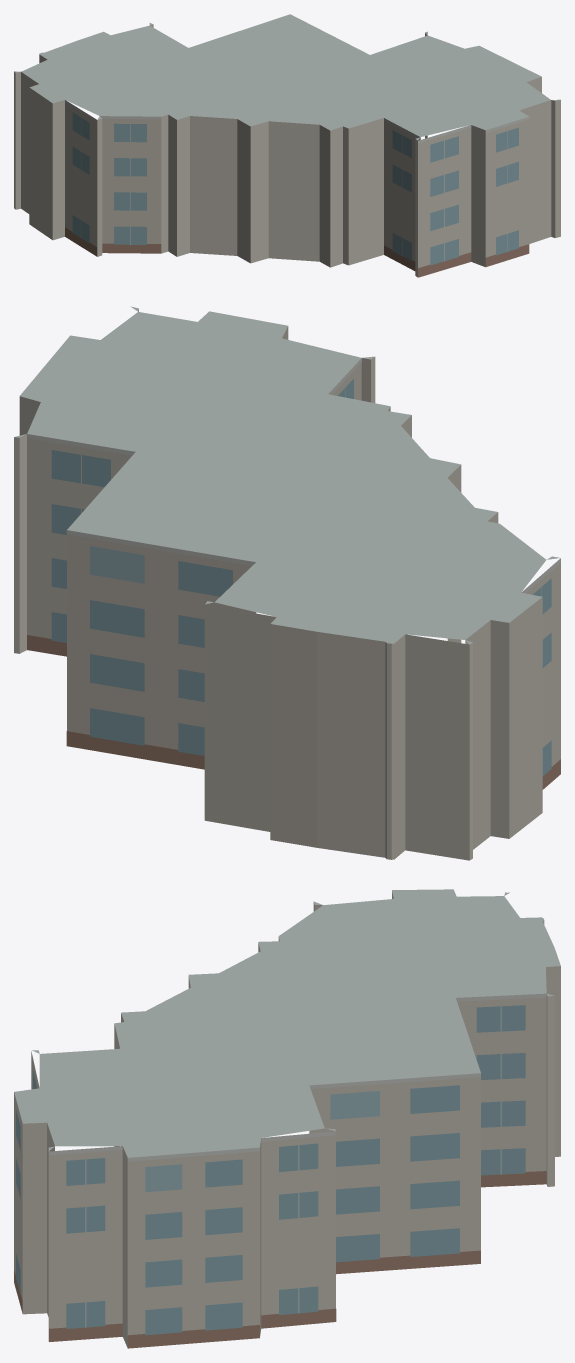
The model's file is survey-upis-32497886.glb.
3 views of the same model, one above another, from view 1: azimuth 30°, elevation 25°; view 2: azimuth 150°, elevation 25°; view 3: azimuth 270°, elevation 25° (orthographic). The views are drawn at different scales.
Parts seen in each view (by area): view 1: survey-upis-32497886.tmp; view 2: survey-upis-32497886.tmp; view 3: survey-upis-32497886.tmp.
Part boxes in pixels (bbox=[...]): survey-upis-32497886.tmp: bbox=[14, 14, 560, 277]; survey-upis-32497886.tmp: bbox=[14, 306, 560, 860]; survey-upis-32497886.tmp: bbox=[14, 889, 560, 1348].
Size of the model in its own units: 36.86 by 12.2 by 31.73.
